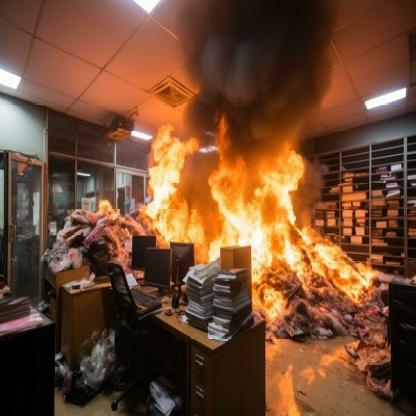fire: (136, 119, 385, 327)
smoke: (170, 4, 346, 198)
